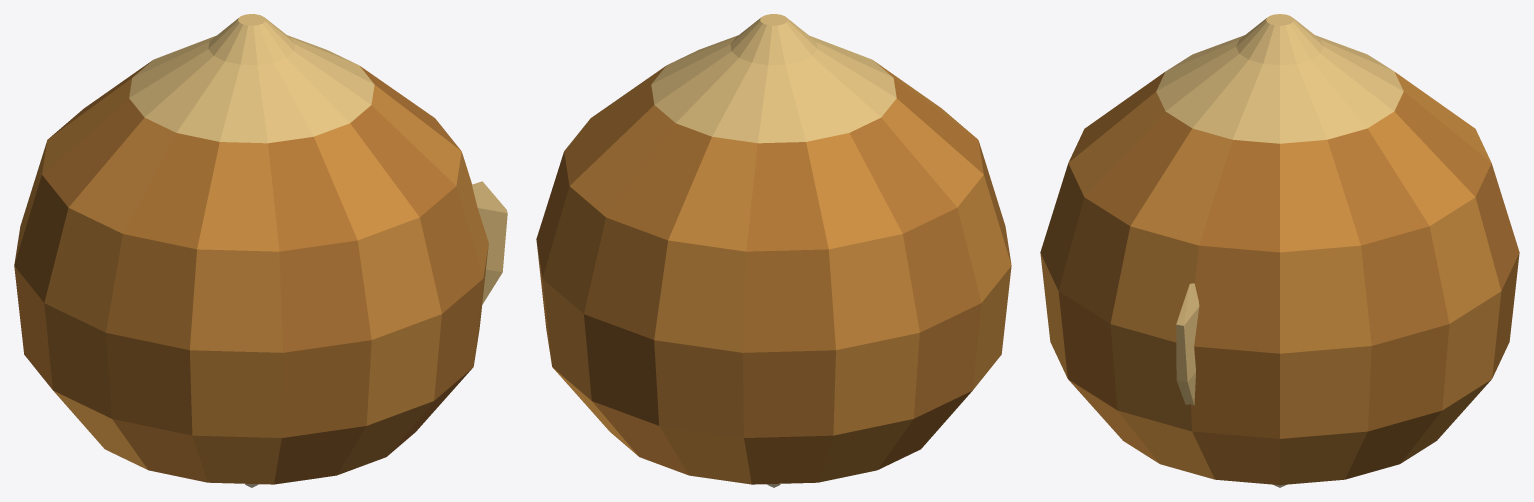
The model's file is onion.glb.
3 views of the same model, side by side, from view 1: azimuth 30°, elevation 25°; view 2: azimuth 150°, elevation 25°; view 3: azimuth 270°, elevation 25° (orthographic).
Visible parts, largest first — view 1: Onion; view 2: Onion; view 3: Onion.
Boxes of the visible parts, box(x1,y1,x2,y2) form: Onion: box(14, 14, 507, 487); Onion: box(536, 14, 1011, 487); Onion: box(1040, 14, 1519, 487).
Size of the model in its own units: 2.4 by 2.4 by 2.4.
